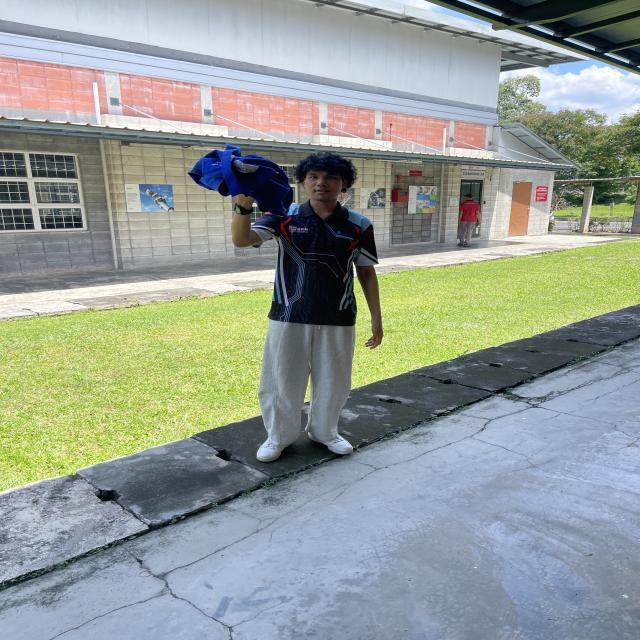person_without_labcoat: (189, 145, 383, 462)
